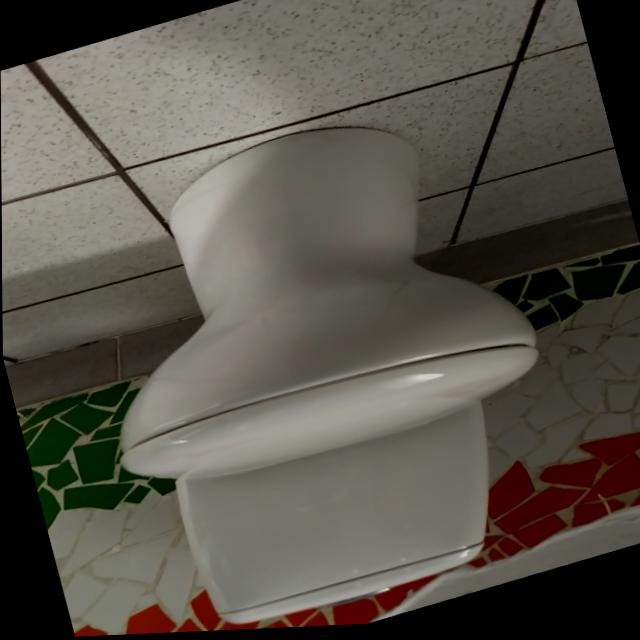toilet: (51, 81, 587, 638)
